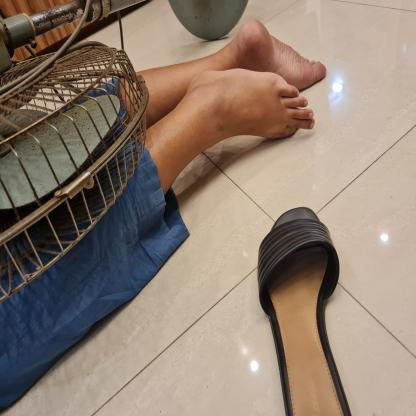leg: (152, 64, 319, 188), (136, 16, 330, 95)
